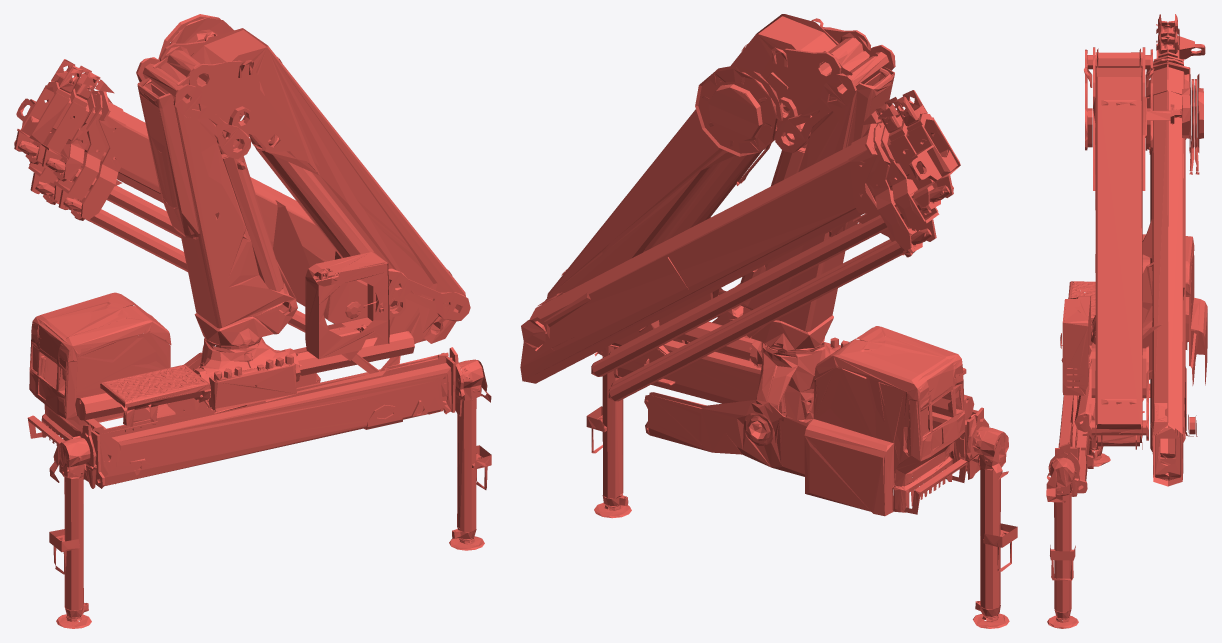
The model's file is crane142.glb.
3 renders of one model, left to right at view 1: azimuth 30°, elevation 25°; view 2: azimuth 150°, elevation 25°; view 3: azimuth 270°, elevation 25°, orthographic. The views are drawn at different scales.
Parts seen in each view (by area): view 1: base_mesh; view 2: base_mesh; view 3: base_mesh.
Part boxes in pixels (x1,y1,x2,y2): base_mesh: (14,14,491,628); base_mesh: (520,14,1017,628); base_mesh: (1046,14,1207,628).
Size of the model in its own units: 2.51 by 3.06 by 0.9567.
